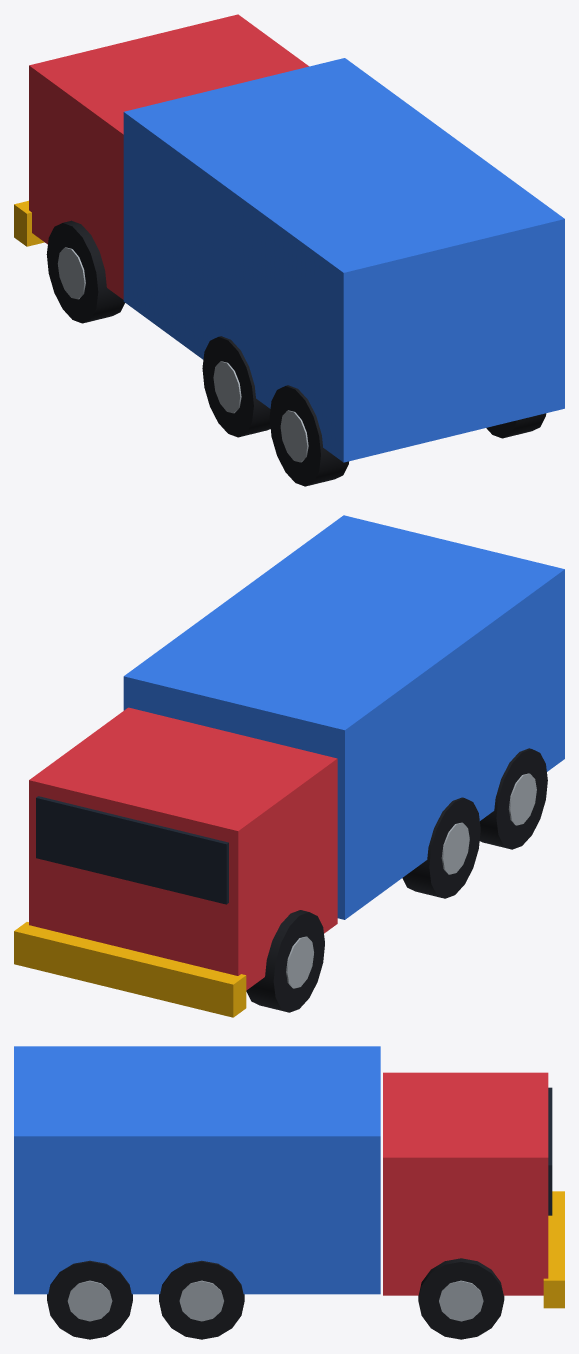
Rendered from cargo_truck.glb.
The picture shows the model from 3 angles, top to bottom: view 1: azimuth 30°, elevation 25°; view 2: azimuth 150°, elevation 25°; view 3: azimuth 270°, elevation 25°; orthographic projection. The views are drawn at different scales.
Parts seen in each view (by area): view 1: cargo_truck; view 2: cargo_truck; view 3: cargo_truck.
Boxes of the visible parts, x1,y1,x2,y2 form: cargo_truck: (14,14,564,486); cargo_truck: (14,515,564,1017); cargo_truck: (14,1046,564,1339).
Size of the model in its own units: 2.47 by 2.49 by 6.16.
